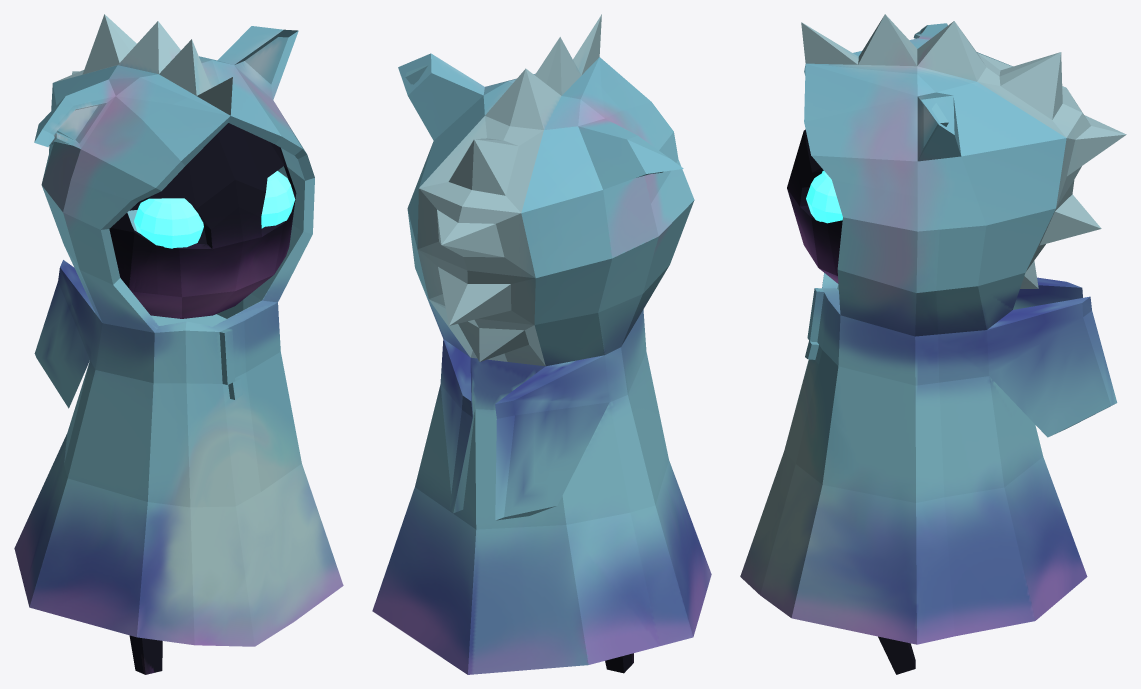
The model's file is Character prueba1.fbx.
3 renders of one model, left to right at view 1: azimuth 30°, elevation 25°; view 2: azimuth 150°, elevation 25°; view 3: azimuth 270°, elevation 25°, orthographic. The views are drawn at different scales.
Parts seen in each view (by area): view 1: Capucha, Pata2; view 2: Capucha; view 3: Capucha, Pata1.
Boxes of the visible parts, x1=… form: Capucha: x1=14, y1=14, x2=343, y2=646; Pata2: x1=129, y1=635, x2=162, y2=674; Capucha: x1=372, y1=14, x2=711, y2=674; Capucha: x1=740, y1=14, x2=1126, y2=644; Pata1: x1=878, y1=636, x2=915, y2=674.
Size of the model in its own units: 297 by 592 by 330.
